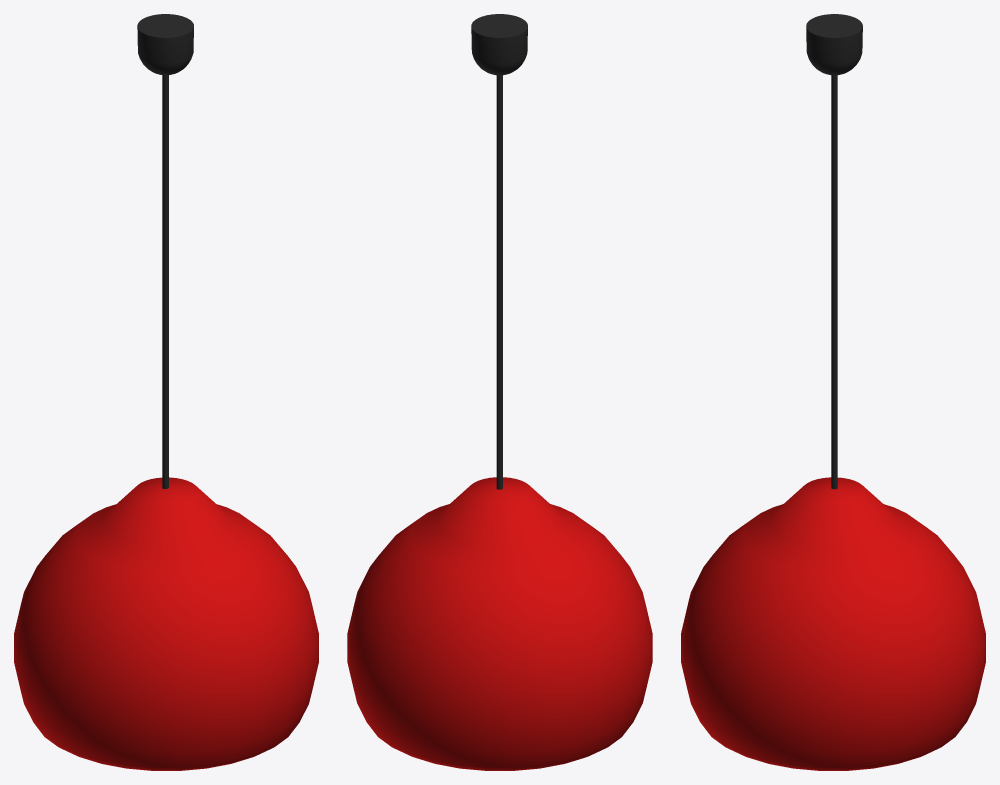
File: Ceiling Lamp 16.FBX
The picture shows the model from 3 angles, left to right: view 1: azimuth 30°, elevation 25°; view 2: azimuth 150°, elevation 25°; view 3: azimuth 270°, elevation 25°; orthographic projection.
Visible parts, largest first — view 1: Ceiling lamp 16; view 2: Ceiling lamp 16; view 3: Ceiling lamp 16.
Boxes of the visible parts, left/top/right/bottom form: Ceiling lamp 16: left=14, top=14, right=318, bottom=770; Ceiling lamp 16: left=347, top=14, right=652, bottom=770; Ceiling lamp 16: left=681, top=14, right=985, bottom=770.
Bounding box in the file's own units: 35.34 × 88.88 × 35.53.
3 materials, 2 textured.
